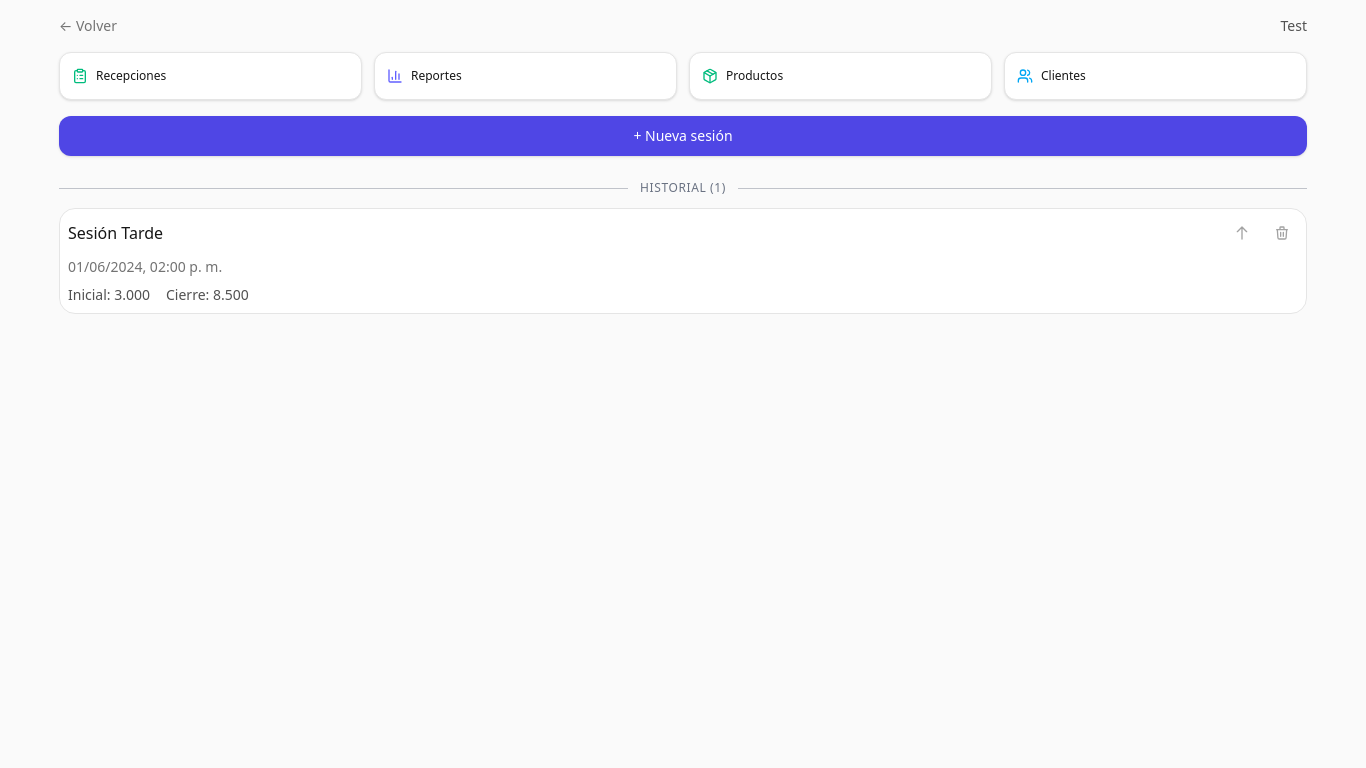
Test: BranchSessions › should close delete modal on cancel
Expected: the heading "Sesión Tarde" is shown, [68,221,163,245]
Click the button titled "Eliminar" at (1282, 233), box [1266,217,1298,249]
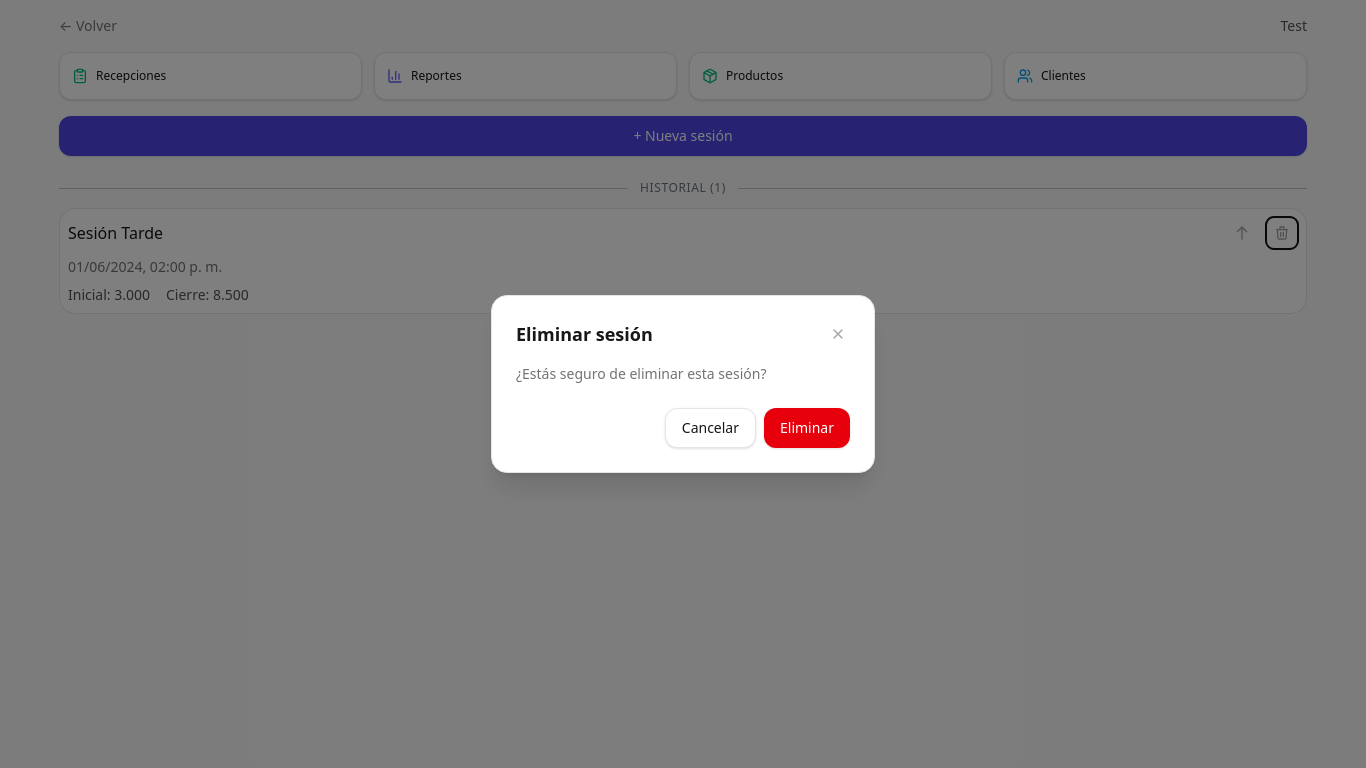
Expected: the heading "Eliminar sesión" is shown, [516,320,653,348]
Click the button "Cancelar" at (710, 428), box [665,408,756,448]
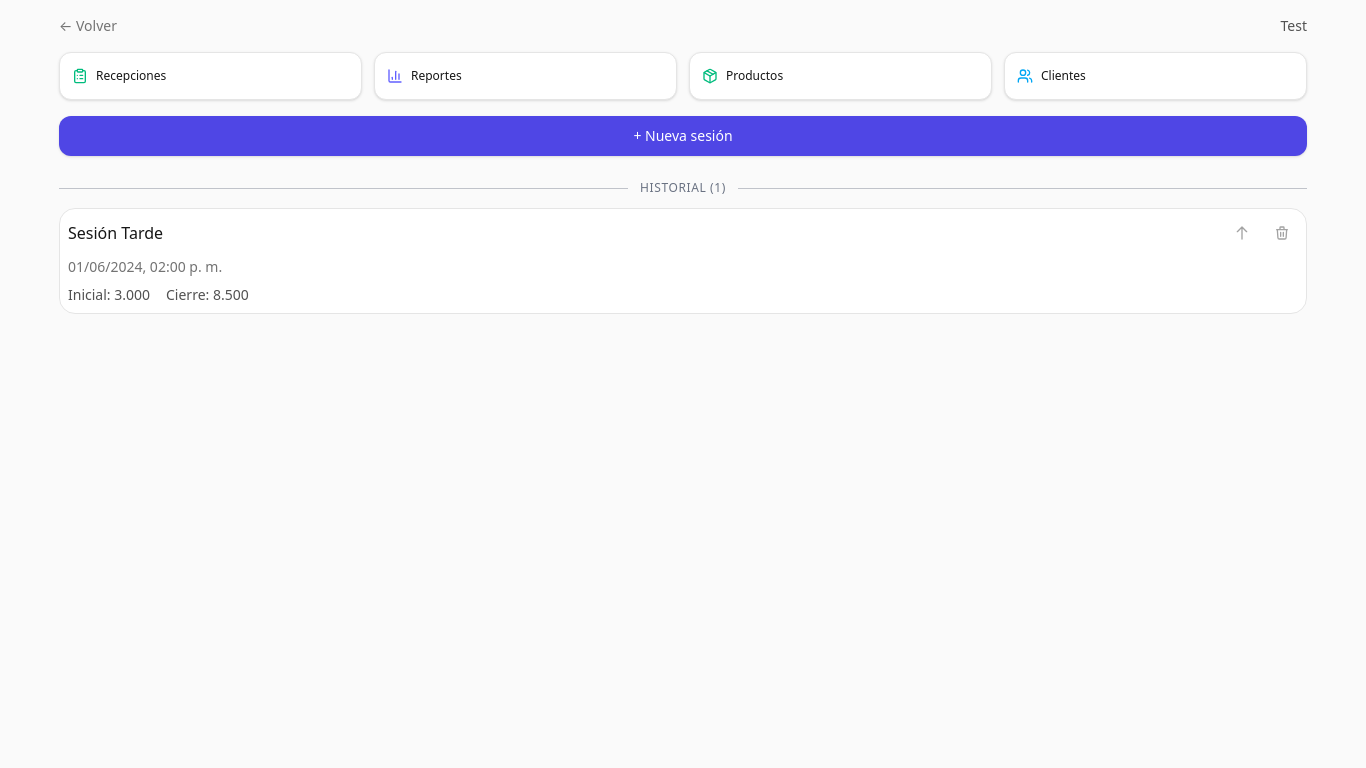
Expected: the heading "Eliminar sesión" is gone
